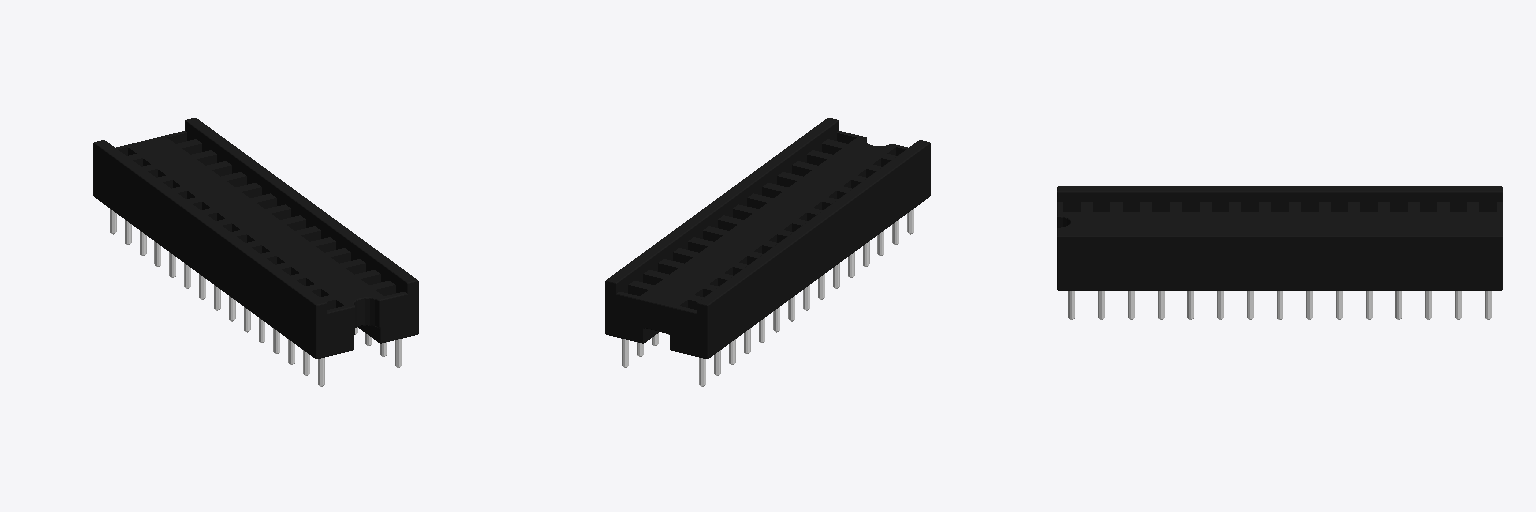
The model's file is IC_Sockel_30P.obj.
The picture shows the model from 3 angles: view 1: azimuth 30°, elevation 25°; view 2: azimuth 150°, elevation 25°; view 3: azimuth 270°, elevation 25°; orthographic projection.
Visible parts, largest first — view 1: Volumenkörper1; view 2: Volumenkörper1; view 3: Volumenkörper1.
Part boxes in pixels (x1,y1,x2,y2): Volumenkörper1: (93,118,418,386); Volumenkörper1: (605,118,930,386); Volumenkörper1: (1057,186,1502,319).
Size of the model in its own units: 10.16 by 8.46 by 38.1.